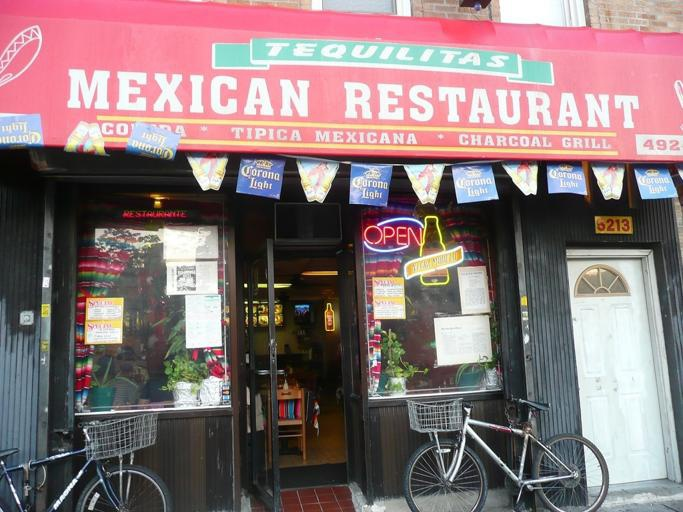non-vehicle: (402, 395, 609, 511), (0, 409, 172, 512)
